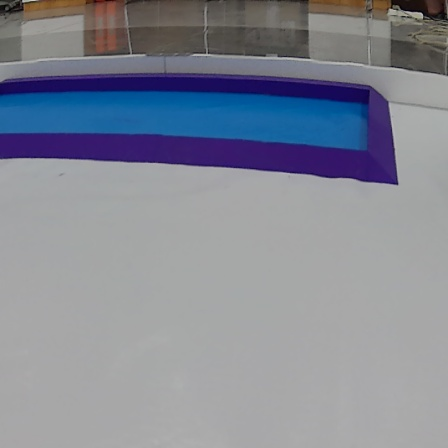blue_aim: (2, 71, 400, 185)
